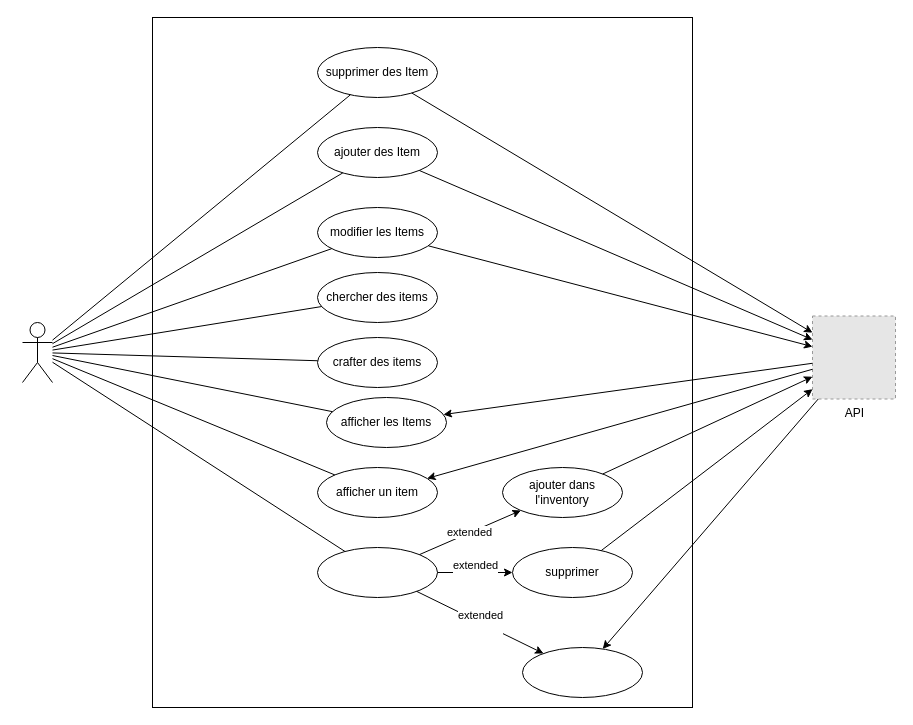
Image size: 913x725. Some labels were removed from this diagram. Grey dashed boxes stand in for pictures. The centre of each missing label's shape, as x and y in pixels:
avoir un inventory: point (377, 572)
modifier: point (582, 672)
Visiteur: point (37, 352)
